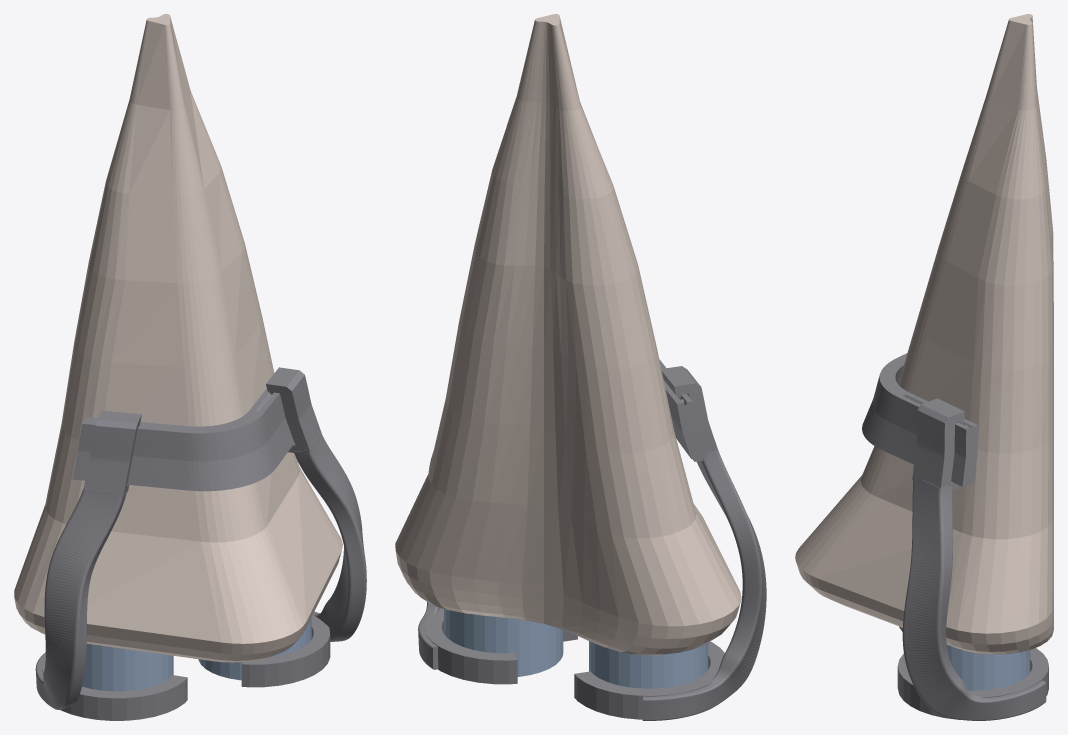
File: candidate_high_force.glb
The picture shows the model from 3 angles, left to right: view 1: azimuth 30°, elevation 25°; view 2: azimuth 150°, elevation 25°; view 3: azimuth 270°, elevation 25°; orthographic projection. The views are drawn at different scales.
Visible parts, largest first — view 1: body, frame_leg_left, frame_leg_right, frame_bridge, plug_left, plug_right; view 2: body, frame_leg_left, plug_right, frame_leg_right, plug_left, frame_bridge; view 3: body, frame_leg_right, frame_bridge, plug_right.
Part boxes in pixels (box(x1,y1,x2,y2)): body: box(14, 14, 342, 662); frame_leg_left: box(35, 410, 187, 720); frame_leg_right: box(241, 367, 366, 687); frame_bridge: box(72, 388, 294, 491); plug_left: box(82, 643, 173, 691); plug_right: box(198, 617, 311, 680); body: box(395, 14, 741, 655); frame_leg_left: box(574, 366, 766, 720); plug_right: box(444, 609, 563, 676); frame_leg_right: box(418, 452, 577, 684); plug_left: box(589, 641, 708, 688); frame_bridge: box(659, 359, 707, 458); body: box(795, 14, 1053, 654); frame_leg_right: box(897, 398, 1048, 720); frame_bridge: box(862, 353, 977, 486); plug_right: box(946, 644, 1030, 690).
Bounding box in the file's own units: 32.25 × 61.8 × 22.75.
